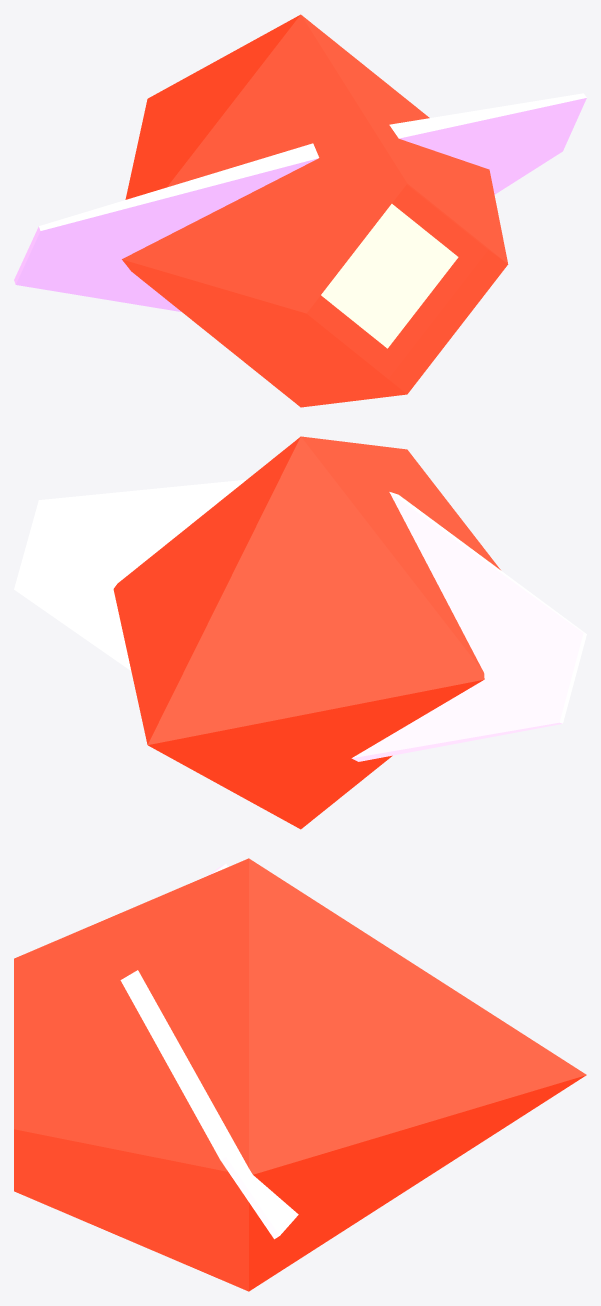
Rendered from fighter-enemy.glb.
3 views of the same model, one above another, from view 1: azimuth 30°, elevation 25°; view 2: azimuth 150°, elevation 25°; view 3: azimuth 270°, elevation 25° (orthographic). The views are drawn at different scales.
Visible parts, largest first — view 1: EnemyMesh; view 2: EnemyMesh; view 3: EnemyMesh.
Boxes of the visible parts, box(x1,y1,x2,y2) form: EnemyMesh: box(14, 14, 586, 407); EnemyMesh: box(14, 436, 586, 829); EnemyMesh: box(14, 858, 586, 1291).
Bounding box in the file's own units: 4.12 × 2.83 × 3.39.
